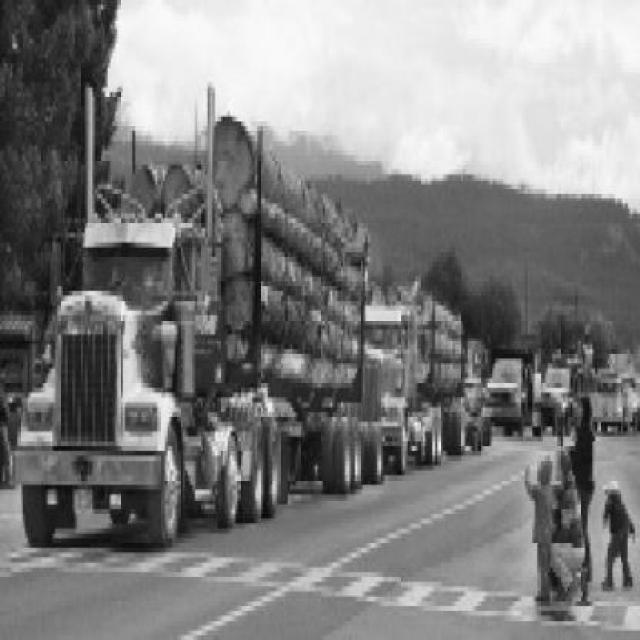Box Truck: (16, 83, 385, 549), (363, 274, 466, 476)
